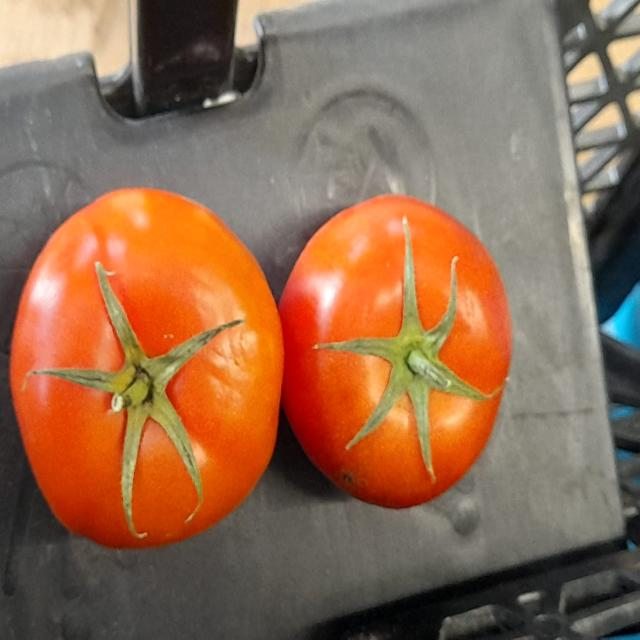tomato: (0, 175, 285, 573), (263, 180, 518, 525)
